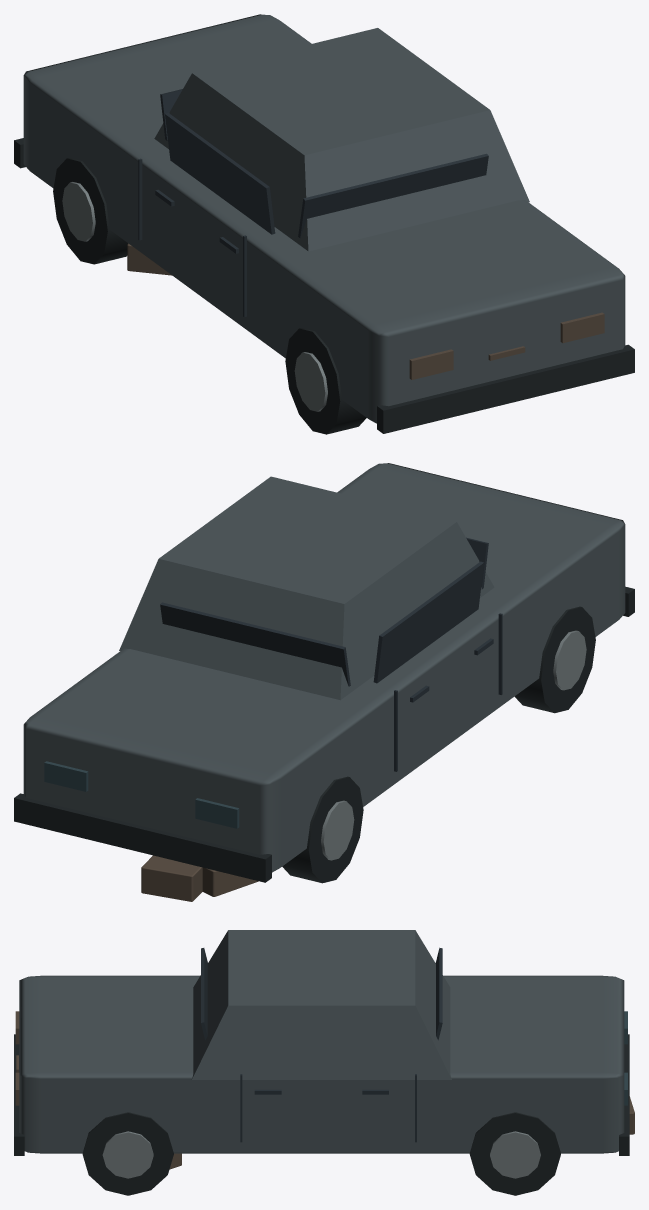
The model's file is sedan-wreck-1.glb.
3 renders of one model, top to bottom at view 1: azimuth 30°, elevation 25°; view 2: azimuth 150°, elevation 25°; view 3: azimuth 270°, elevation 25°, orthographic. The views are drawn at different scales.
Visible parts, largest first — view 1: sedan-wreck/0/KR-230-1; view 2: sedan-wreck/0/KR-230-1; view 3: sedan-wreck/0/KR-230-1.
Boxes of the visible parts, <box> form: sedan-wreck/0/KR-230-1: <box>14,14,634,434</box>; sedan-wreck/0/KR-230-1: <box>14,463,634,901</box>; sedan-wreck/0/KR-230-1: <box>14,930,634,1195</box>.
Bounding box in the file's own units: 1.87 × 1.5 × 4.62.
